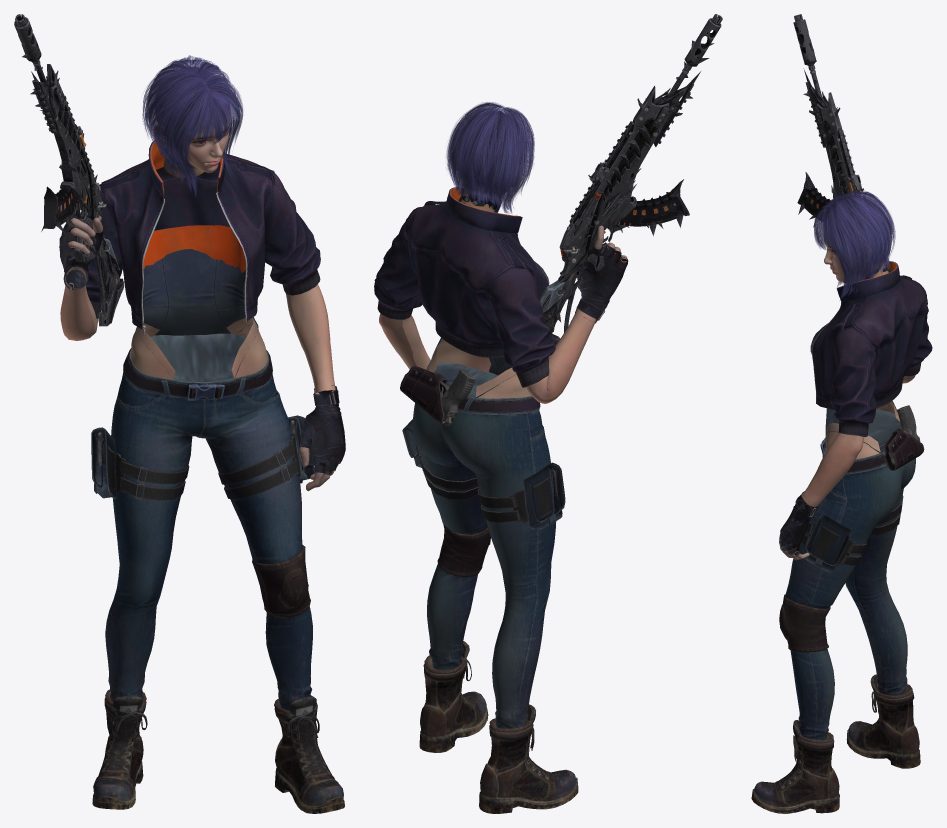
3 renders of one model, left to right at view 1: azimuth 30°, elevation 25°; view 2: azimuth 150°, elevation 25°; view 3: azimuth 270°, elevation 25°, orthographic. The views are drawn at different scales.
Parts seen in each view (by area): view 1: pants, top, body, hair, Mesh_0027_rip_Mesh_0027_rip_mesh0000, face, Mesh_0030_rip_Mesh_0030_rip_mesh0000, Mesh_0028_rip_Mesh_0028_rip_mesh0000, Mesh_0032_rip_Mesh_0032_rip_mesh0000; view 2: pants, top, Mesh_0027_rip_Mesh_0027_rip_mesh0000, hair, body, pistol, Mesh_0028_rip_Mesh_0028_rip_mesh0000, Mesh_0030_rip_Mesh_0030_rip_mesh0000, Mesh_0032_rip_Mesh_0032_rip_mesh0000; view 3: pants, top, hair, body, Mesh_0027_rip_Mesh_0027_rip_mesh0000, pistol, Mesh_0028_rip_Mesh_0028_rip_mesh0000, face, Mesh_0032_rip_Mesh_0032_rip_mesh0000.
Boxes of the visible parts, x1,y1,x2,y2 form: pants: (91, 333, 344, 813); top: (59, 140, 345, 474); body: (60, 217, 339, 491); hair: (142, 55, 243, 197); Mesh_0027_rip_Mesh_0027_rip_mesh0000: (32, 61, 106, 237); face: (154, 66, 231, 178); Mesh_0030_rip_Mesh_0030_rip_mesh0000: (54, 70, 124, 326); Mesh_0028_rip_Mesh_0028_rip_mesh0000: (44, 186, 92, 261); Mesh_0032_rip_Mesh_0032_rip_mesh0000: (14, 14, 41, 63); pants: (402, 363, 578, 813); top: (374, 187, 628, 397); Mesh_0027_rip_Mesh_0027_rip_mesh0000: (558, 68, 693, 282); hair: (446, 102, 534, 213); body: (379, 225, 627, 403); pistol: (400, 366, 475, 425); Mesh_0028_rip_Mesh_0028_rip_mesh0000: (580, 179, 689, 271); Mesh_0030_rip_Mesh_0030_rip_mesh0000: (539, 98, 643, 343); Mesh_0032_rip_Mesh_0032_rip_mesh0000: (684, 14, 722, 70); pants: (751, 410, 920, 813); top: (779, 261, 932, 555); hair: (814, 189, 895, 299); body: (779, 375, 915, 560); Mesh_0027_rip_Mesh_0027_rip_mesh0000: (805, 69, 859, 206); pistol: (883, 405, 924, 470); Mesh_0028_rip_Mesh_0028_rip_mesh0000: (797, 172, 844, 282); face: (824, 198, 888, 281); Mesh_0032_rip_Mesh_0032_rip_mesh0000: (793, 14, 816, 70).
Size of the model in its own units: 0.1986 by 0.4774 by 0.1148.
Materials: 8 (8 with a texture image).
